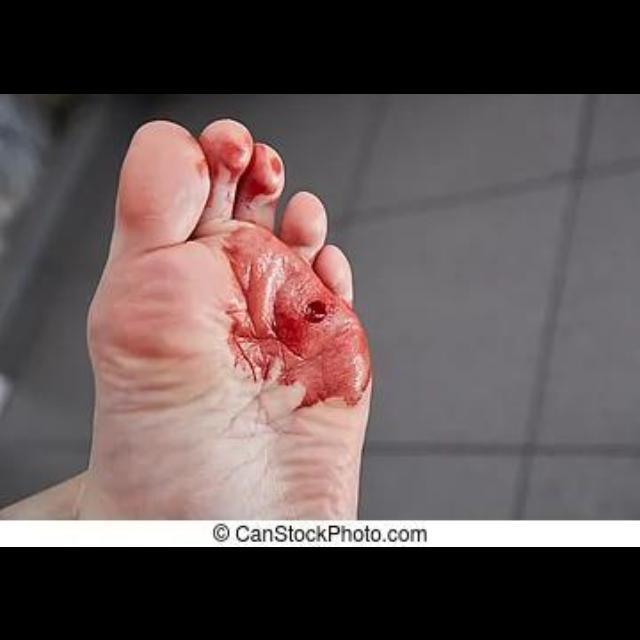blood: (222, 219, 372, 407), (199, 118, 284, 211)
